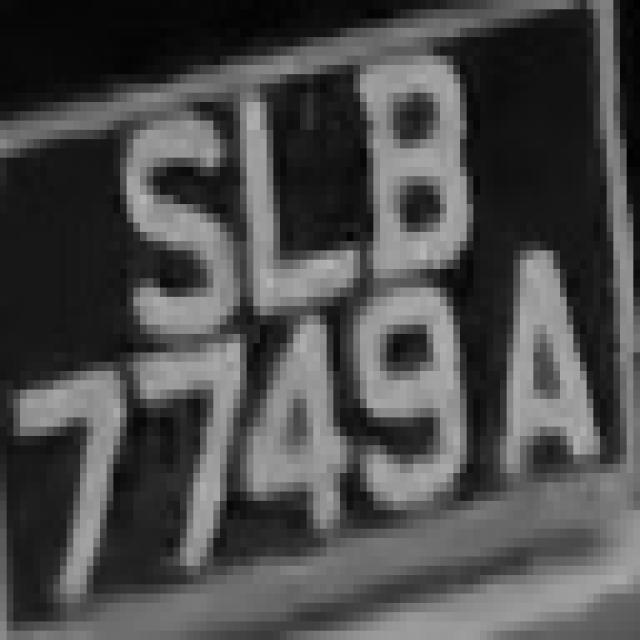4: (213, 278, 347, 557)
7: (0, 352, 140, 594), (133, 306, 240, 575)
9: (347, 288, 493, 538)
A: (453, 232, 607, 529)
B: (360, 28, 480, 278)
L: (240, 74, 353, 334)
S: (106, 56, 226, 334)
